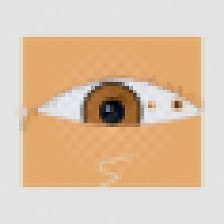foreign_body_visible: (158, 89, 197, 121)
